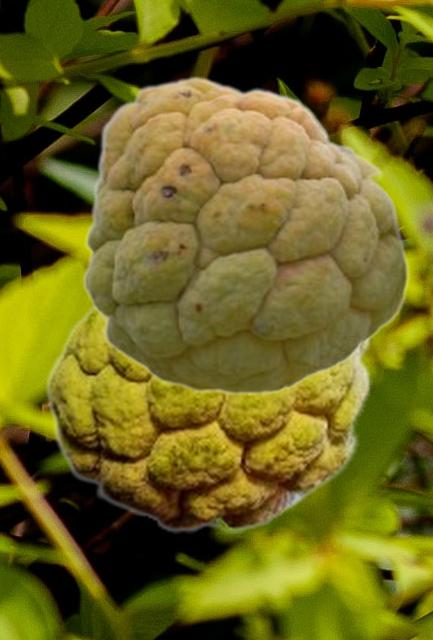atis: (81, 75, 408, 394), (44, 304, 371, 532)
